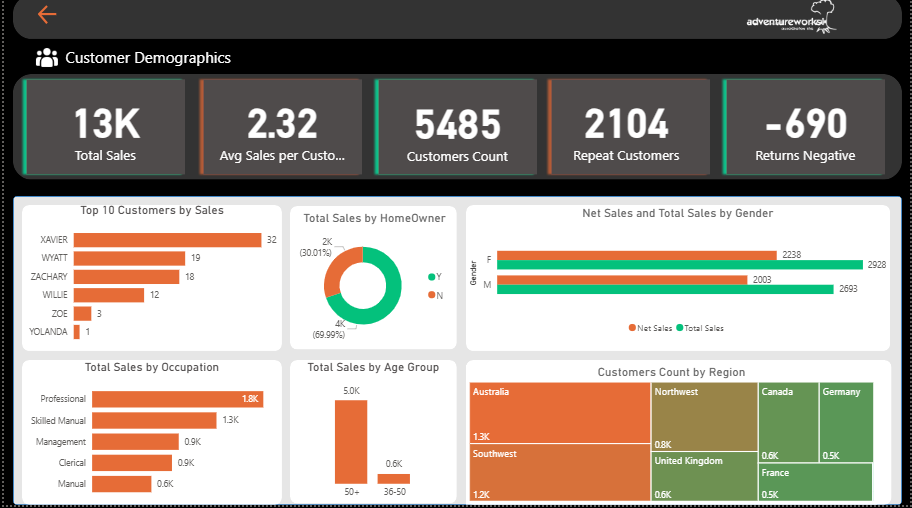

What the dashboard file says about the page in this screenshot:
{"tool":"powerbi","page":{"name":"Customers Analysis","canvas":[1280,720],"ordinal":1},"visuals":[{"type":"shape","box":[13,111.6,1255.1,149.3],"z":0},{"type":"shape","box":[24.6,111.6,239.1,149.3],"z":1000,"group":"g1"},{"type":"shape","box":[273.9,111.6,239.1,149.3],"z":1000},{"type":"shape","box":[520.3,111.6,239.1,149.3],"z":1000,"group":"g2"},{"type":"shape","box":[765.2,111.6,239.1,149.3],"z":1000,"group":"g4"},{"type":"shape","box":[1012.6,111.6,239.1,149.3],"z":1000,"group":"g3"},{"type":"card","fields":{"Values":["_Measures.Avg Sales per Customer"]},"box":[292.8,126.1,201.4,120.3],"z":2000},{"type":"group","id":"g1","title":"Group 1","box":[24.6,111.6,239.1,149.3],"z":3000},{"type":"group","id":"g2","title":"Group 1","box":[520.3,111.6,239.1,149.3],"z":4000,"group":"g5"},{"type":"group","id":"g3","title":"Group 1","box":[1012.6,111.6,239.1,149.3],"z":4000},{"type":"shape","box":[13,0,1255.1,62.3],"z":5000},{"type":"card","fields":{"Values":["_Measures.Total Sales"]},"box":[43.4,126.1,201.4,120.3],"z":5000,"group":"g1"},{"type":"card","fields":{"Values":["_Measures.Repeat Customers"]},"box":[778.2,126.1,201.4,120.3],"z":5000,"group":"g4"},{"type":"card","fields":{"Values":["_Measures.Returns Negative"]},"box":[1031.4,126.1,201.4,120.3],"z":5000,"group":"g3"},{"type":"group","id":"g4","title":"Group 2","box":[765.2,111.6,239.1,149.3],"z":6000},{"type":"group","id":"g5","title":"Group 3","box":[520.3,111.6,239.1,149.3],"z":7000},{"type":"shape","box":[13,283.8,1255.1,436.2],"z":8000},{"type":"shape","box":[25.6,295.8,367,206.3],"z":9000},{"type":"clusteredBarChart","title":"Top 10 Customers by Sales","fields":{"Category":["Customers.FirstName"],"Y":["_Measures.Total Sales"]},"box":[25.6,294,367,208.2],"z":10000},{"type":"card","fields":{"Values":["_Measures.Customers Count"]},"box":[538.3,126.7,201.7,120],"z":10001,"group":"g5"},{"type":"image","box":[942.7,0,337.3,61.9],"z":11000},{"type":"shape","box":[651.9,295.8,598.9,206.3],"z":12000},{"type":"shape","box":[25.6,514.9,367,204.5],"z":13000},{"type":"clusteredBarChart","fields":{"Category":["Customers.Gender"],"Y":["_Measures.Net Sales","_Measures.Total Sales"]},"box":[652.5,297.5,598,190],"z":14000},{"type":"shape","box":[651.9,514.9,600.7,204.5],"z":15000},{"type":"treemap","fields":{"Values":["_Measures.Customers Count"],"Group":["AdventureWorks_Territories.Region"]},"box":[652.5,522.9,580.3,197.4],"z":16000},{"type":"textbox","box":[82.5,67.8,369.7,41.2],"z":17000},{"type":"barChart","fields":{"Category":["Customers.Occupation"],"Y":["_Measures.Total Sales"]},"box":[25.6,514.9,367,204.5],"z":18000},{"type":"shape","box":[403.5,297.6,235.5,202.7],"z":19000},{"type":"donutChart","fields":{"Y":["_Measures.Total Sales"],"Category":["Customers.HomeOwner"]},"box":[410.8,304.9,224.6,191.7],"z":20000},{"type":"shape","box":[403.5,514.9,235.5,202.7],"z":21000},{"type":"columnChart","fields":{"Y":["_Measures.Total Sales"],"Category":["Customers.Age Group"]},"box":[408,515.5,226.8,204.7],"z":22000},{"type":"image","box":[38.3,67.8,44.2,41.2],"z":23000},{"type":"actionButton","box":[44.2,10.3,100.2,39.8],"z":24000}]}

Visuals, with their boxes in screenshot pixels (x1, y1, x2, y2), scaled from the page's 1280x720 canvas onto the 912x508 screenshot:
shape: crop(9, 79, 904, 184)
shape: crop(18, 79, 188, 184)
shape: crop(195, 79, 366, 184)
shape: crop(371, 79, 541, 184)
shape: crop(545, 79, 716, 184)
shape: crop(721, 79, 892, 184)
card - _Measures.Avg Sales per Customer: crop(209, 89, 352, 174)
"Group 1" group: crop(18, 79, 188, 184)
"Group 1" group: crop(371, 79, 541, 184)
"Group 1" group: crop(721, 79, 892, 184)
shape: crop(9, 0, 904, 44)
card - _Measures.Total Sales: crop(31, 89, 174, 174)
card - _Measures.Repeat Customers: crop(554, 89, 698, 174)
card - _Measures.Returns Negative: crop(735, 89, 878, 174)
"Group 2" group: crop(545, 79, 716, 184)
"Group 3" group: crop(371, 79, 541, 184)
shape: crop(9, 200, 904, 507)
shape: crop(18, 209, 280, 354)
"Top 10 Customers by Sales" clusteredBarChart: crop(18, 207, 280, 354)
card - _Measures.Customers Count: crop(384, 89, 527, 174)
image: crop(672, 0, 911, 44)
shape: crop(464, 209, 891, 354)
shape: crop(18, 363, 280, 507)
clusteredBarChart - Customers.Gender x _Measures.Net Sales: crop(465, 210, 891, 344)
shape: crop(464, 363, 892, 507)
treemap - _Measures.Customers Count x AdventureWorks_Territories.Region: crop(465, 369, 878, 507)
textbox: crop(59, 48, 322, 77)
barChart - Customers.Occupation x _Measures.Total Sales: crop(18, 363, 280, 507)
shape: crop(287, 210, 455, 353)
donutChart - _Measures.Total Sales x Customers.HomeOwner: crop(293, 215, 453, 350)
shape: crop(287, 363, 455, 506)
columnChart - _Measures.Total Sales x Customers.Age Group: crop(291, 364, 452, 507)
image: crop(27, 48, 59, 77)
actionButton: crop(31, 7, 103, 35)
